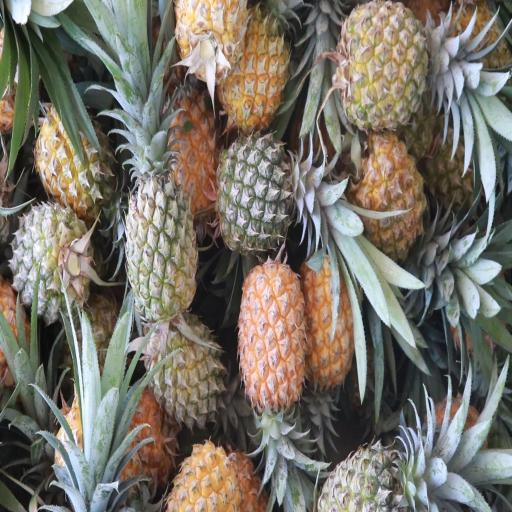------------------------------: (125, 147, 197, 313), (341, 0, 432, 119), (143, 316, 226, 422), (35, 106, 112, 210)
Pineapple - v8 v1: (238, 261, 308, 407), (352, 131, 424, 253), (218, 11, 292, 126), (301, 246, 359, 382), (161, 86, 223, 212), (171, 438, 244, 512), (176, 0, 248, 75)
